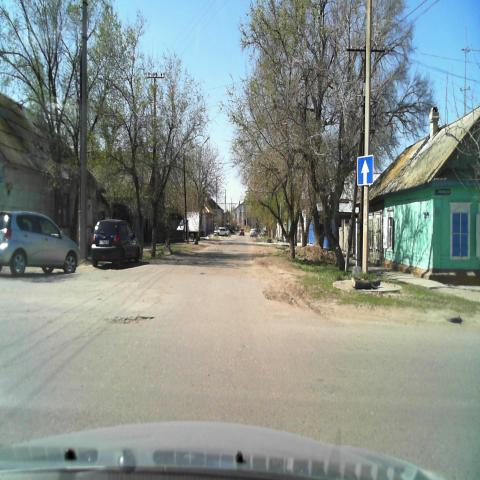5_5: (356, 156, 374, 186)
